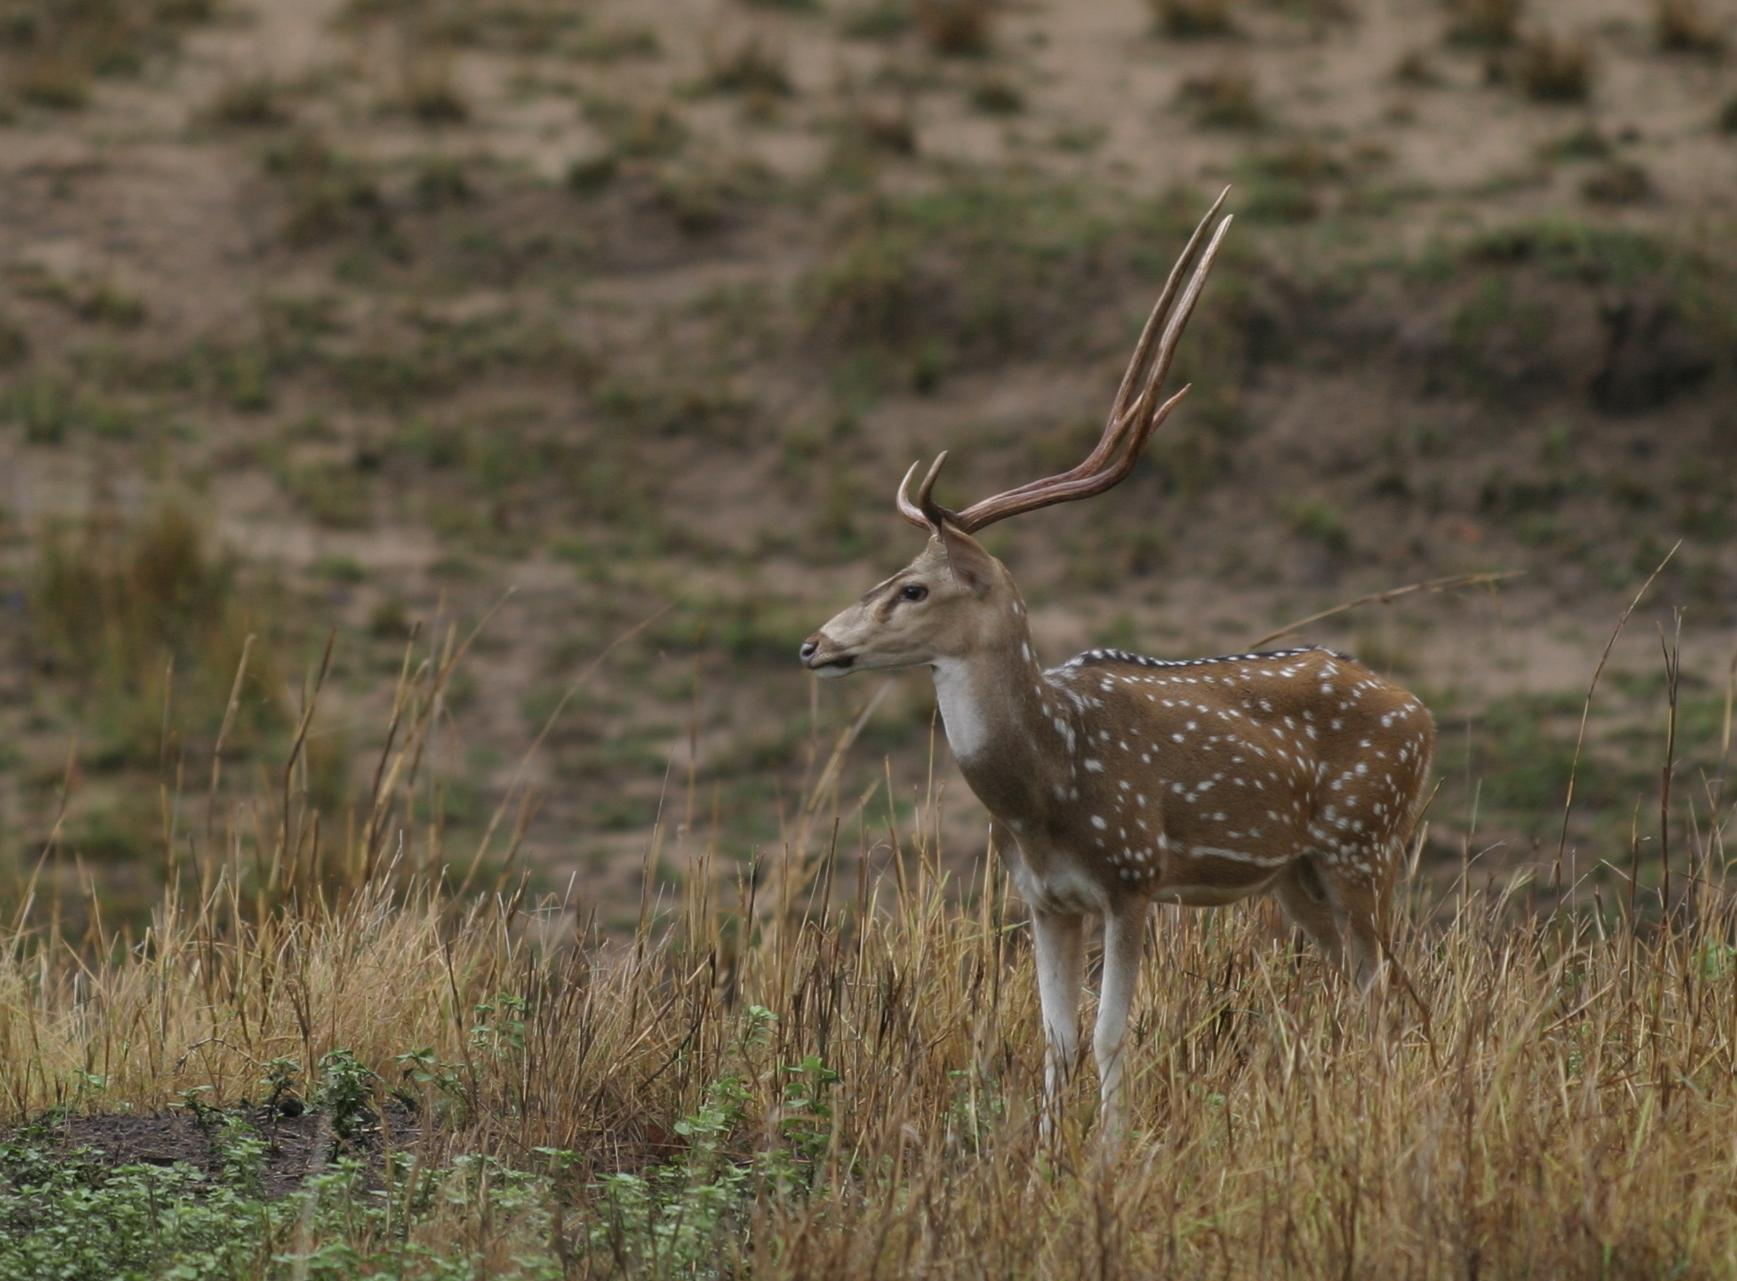Deer: (800, 200, 1434, 1139)
